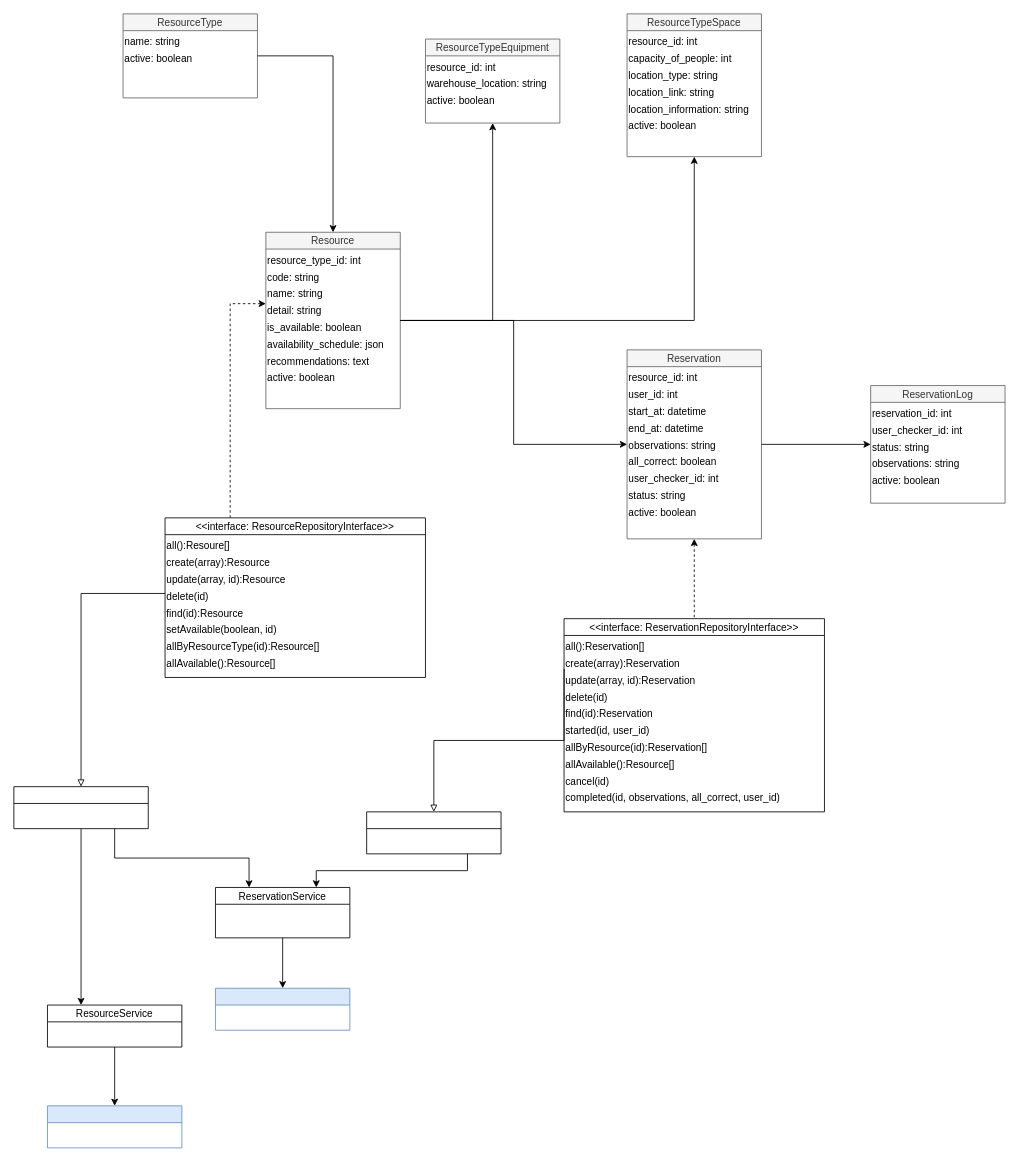
This 1019x1162 diagram has some shape labels left out. Each missing label, with the centre of its shape:
ReservationController: pixel 282 1008
ReservationRepository: pixel 433 832
ResourceController: pixel 114 1126
ResourceRepository: pixel 80 807
